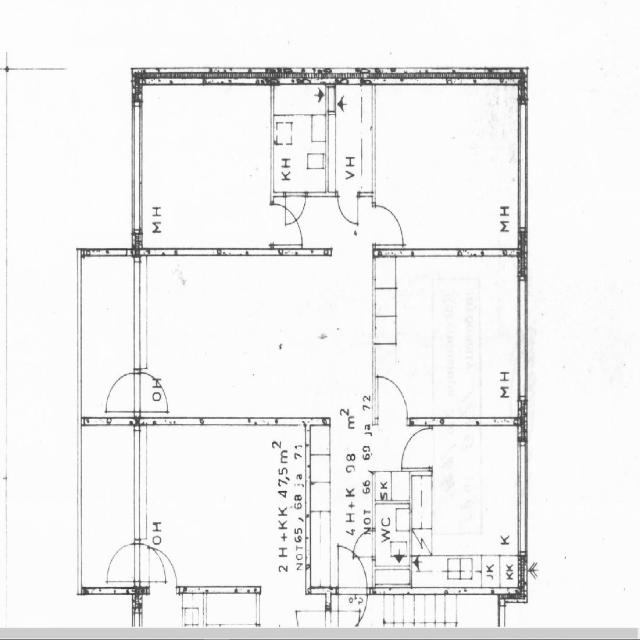door: (374, 500, 410, 589), (102, 366, 140, 421), (374, 369, 411, 425), (370, 199, 408, 252), (140, 540, 178, 589), (103, 539, 139, 590), (399, 422, 434, 474), (135, 368, 172, 416), (337, 543, 370, 594), (336, 192, 362, 228), (283, 191, 307, 227), (352, 526, 378, 558)
window: (515, 94, 531, 235), (129, 254, 147, 374), (517, 442, 529, 554), (133, 96, 141, 236), (520, 276, 526, 406)
zone: (136, 250, 374, 422), (140, 422, 328, 587), (371, 82, 525, 253), (374, 252, 520, 418), (139, 81, 273, 251), (412, 424, 524, 592), (81, 250, 139, 424), (272, 84, 328, 195), (328, 83, 373, 194), (374, 499, 412, 593)
